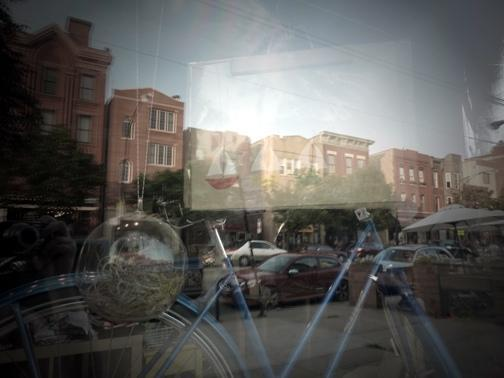bicycle: (2, 194, 466, 378)
car: (218, 254, 348, 314), (374, 243, 457, 273), (228, 241, 287, 266), (300, 245, 349, 261)
